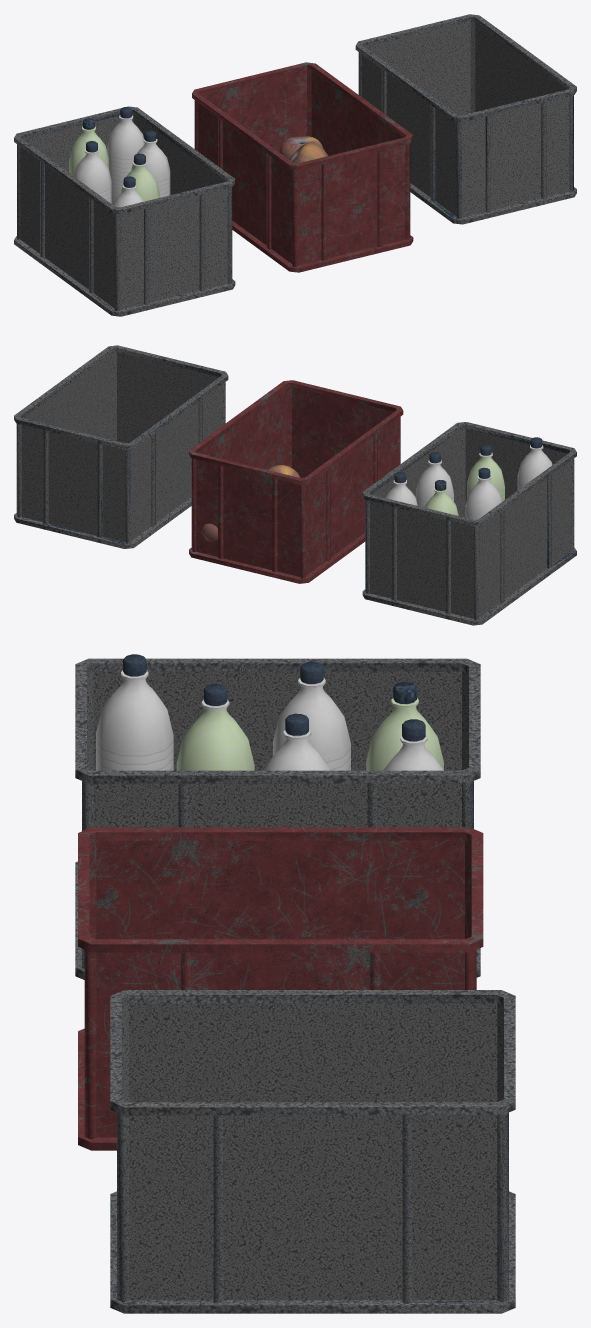
Rendered from Food.fbx.
3 renders of one model, top to bottom at view 1: azimuth 30°, elevation 25°; view 2: azimuth 150°, elevation 25°; view 3: azimuth 270°, elevation 25°, orthographic. The views are drawn at different scales.
Visible parts, largest first — view 1: Group3, Group2, Group1; view 2: Group3, Group2, Group1; view 3: Group1, Group2, Group3.
Part boxes in pixels (bbox=[...]): Group3: bbox=[14, 106, 235, 316]; Group2: bbox=[192, 62, 413, 272]; Group1: bbox=[355, 14, 576, 224]; Group3: bbox=[362, 422, 576, 625]; Group2: bbox=[189, 380, 403, 583]; Group1: bbox=[14, 345, 228, 548]; Group1: bbox=[110, 990, 515, 1313]; Group2: bbox=[78, 827, 483, 1150]; Group3: bbox=[75, 654, 480, 979].
Size of the model in its own units: 1564 by 381 by 649.
